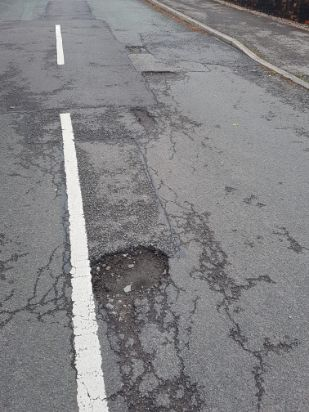pothole: (90, 241, 176, 322)
